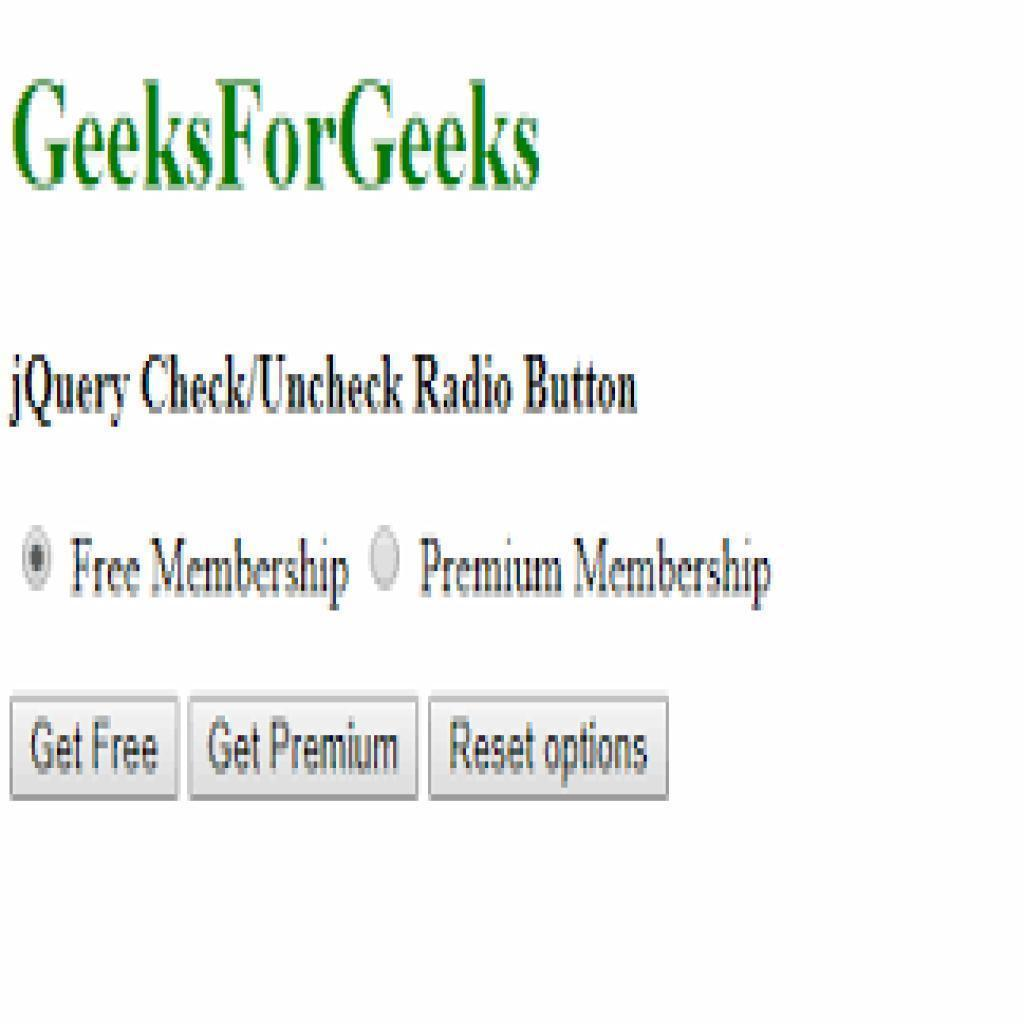button: (186, 695, 419, 795), (423, 700, 668, 791), (9, 700, 180, 803)
radio: (18, 513, 53, 602), (370, 519, 405, 599)
